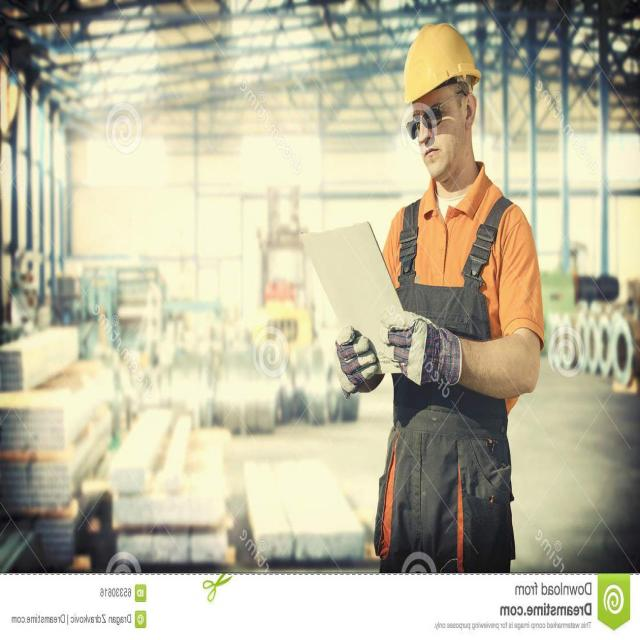Reflective-Jacket: (378, 177, 535, 390)
Safety-Helmet: (401, 20, 484, 106)
